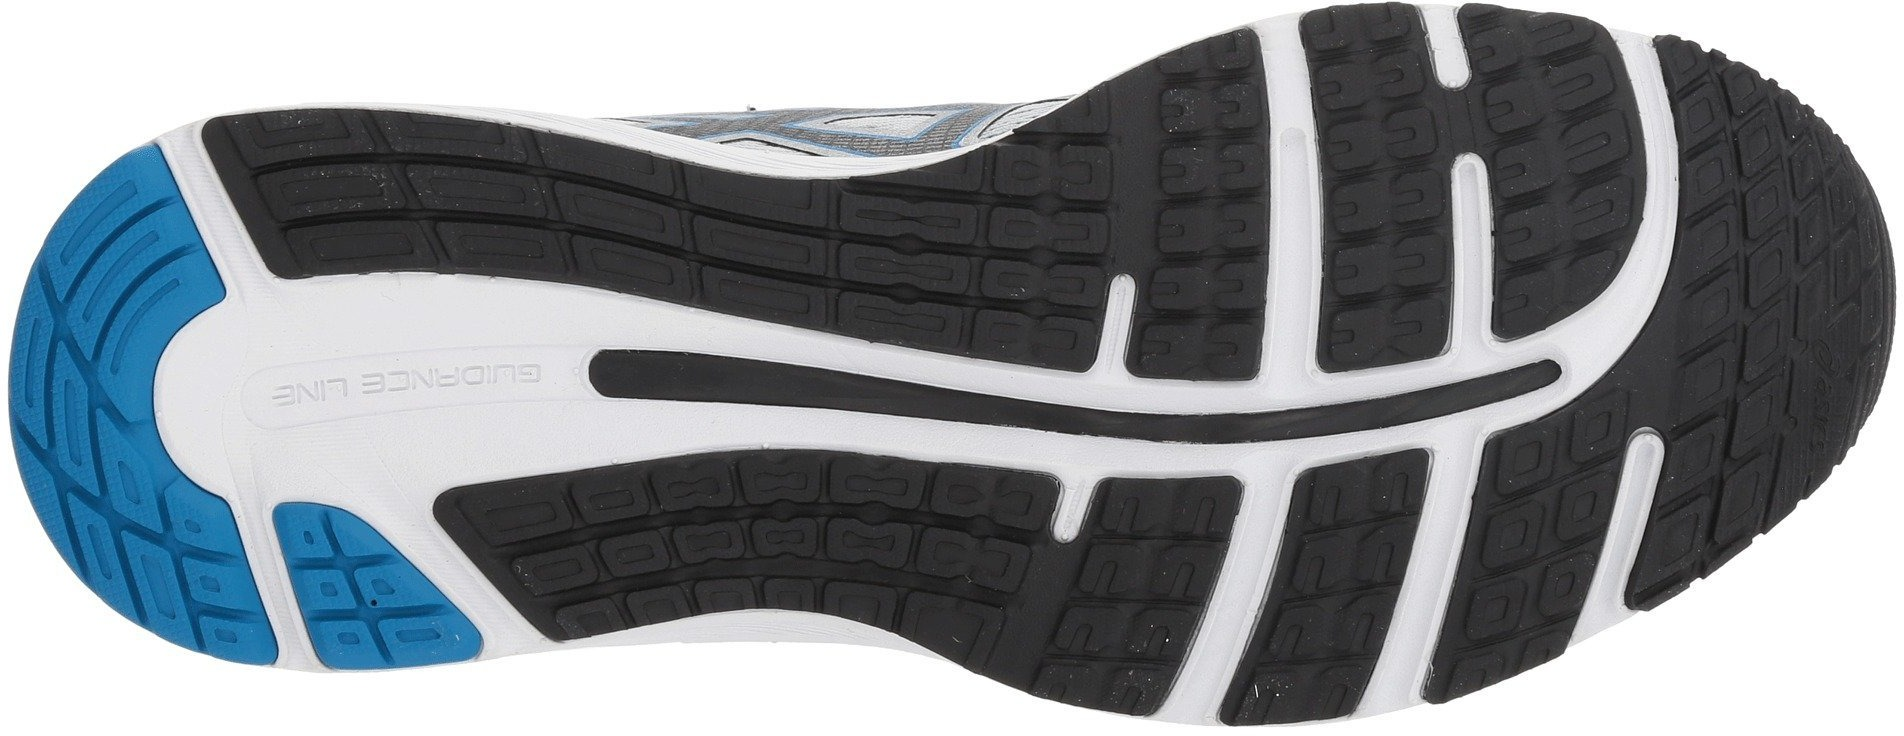bowtie: (731, 447, 824, 565)
quad: (1687, 202, 1871, 373), (917, 181, 1095, 345)
text: (278, 352, 379, 431), (410, 345, 508, 411)
